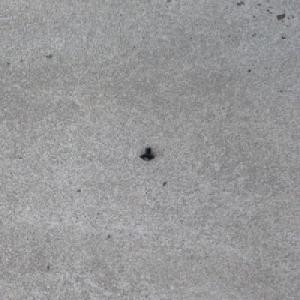BoltWasher: (139, 146, 155, 161)
